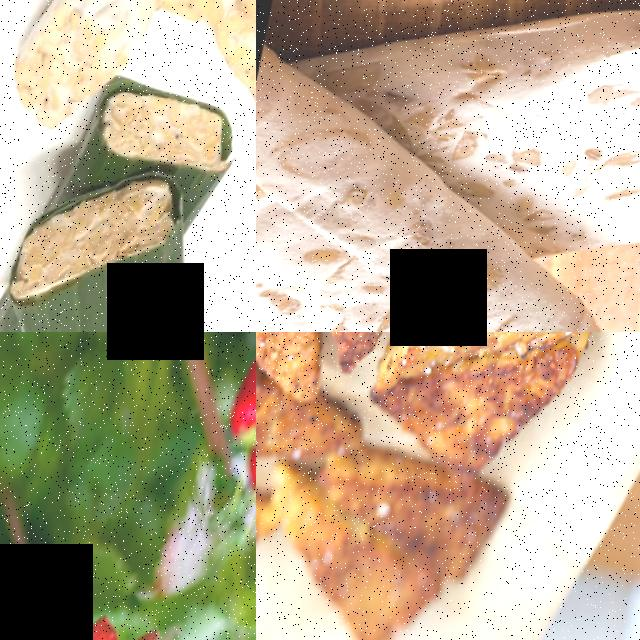strawberry: (225, 356, 256, 455), (18, 616, 83, 640), (74, 615, 136, 640)
tempeh: (374, 0, 640, 284), (256, 238, 635, 332), (20, 182, 183, 307), (10, 0, 135, 134), (103, 92, 241, 177), (220, 0, 256, 121)
